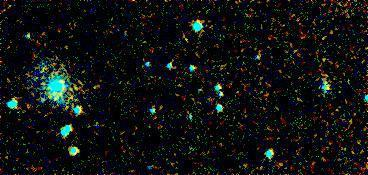star: (36, 84, 66, 114)
